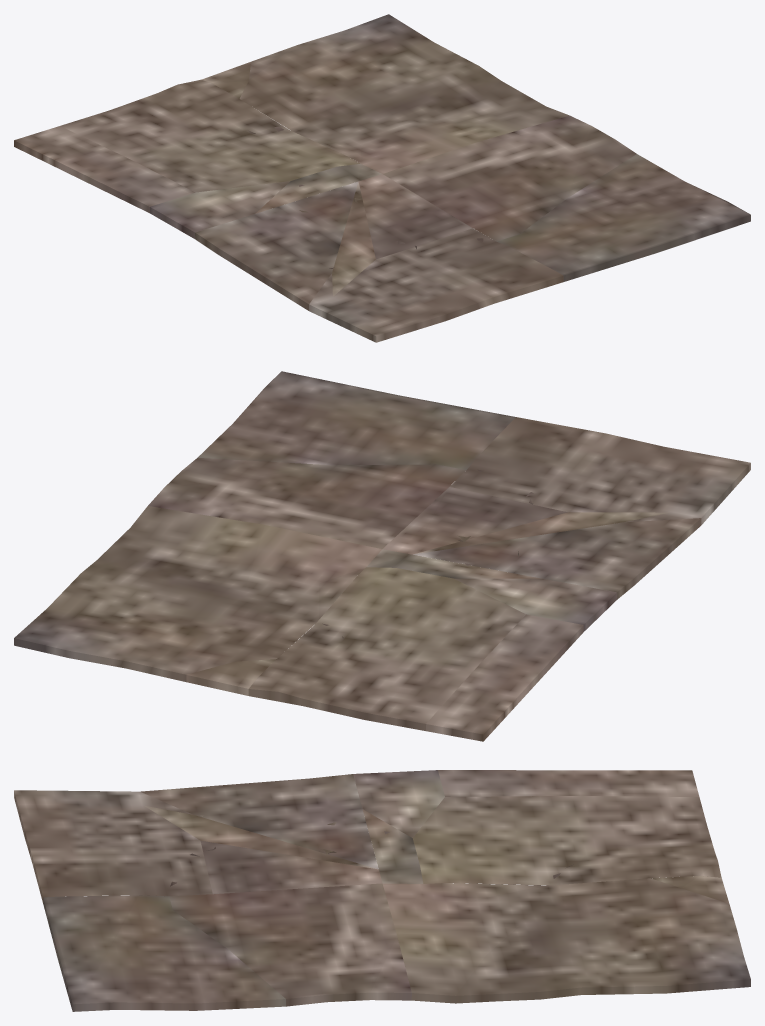
The picture shows the model from 3 angles, top to bottom: view 1: azimuth 30°, elevation 25°; view 2: azimuth 150°, elevation 25°; view 3: azimuth 270°, elevation 25°; orthographic projection. The views are drawn at different scales.
Visible parts, largest first — view 1: Mesh_0; view 2: Mesh_0; view 3: Mesh_0.
Part boxes in pixels (<box>): Mesh_0: <box>14,14,750,342</box>; Mesh_0: <box>14,371,750,741</box>; Mesh_0: <box>14,770,750,1011</box>.
Size of the model in its own units: 1064 by 54.51 by 1317.
1 material, 1 textured.
